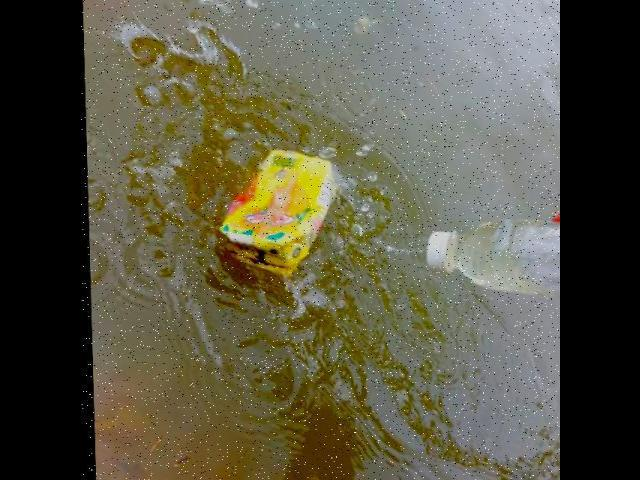Bottle: (422, 214, 560, 301)
Box: (212, 140, 348, 294)
